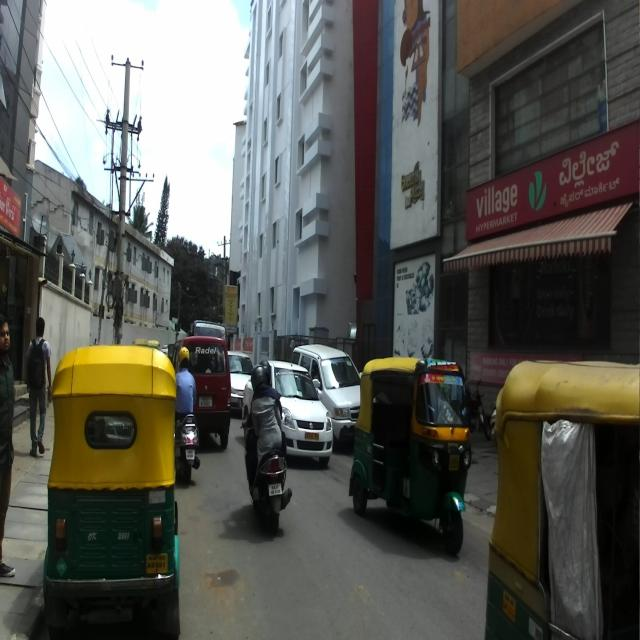Car_Maruti-Suzuki: (242, 361, 335, 468), (287, 344, 363, 454), (171, 335, 230, 448)
autorickshaw: (485, 359, 640, 640), (42, 347, 182, 638), (350, 352, 472, 555)
scooter: (239, 416, 293, 535), (173, 412, 200, 484)
